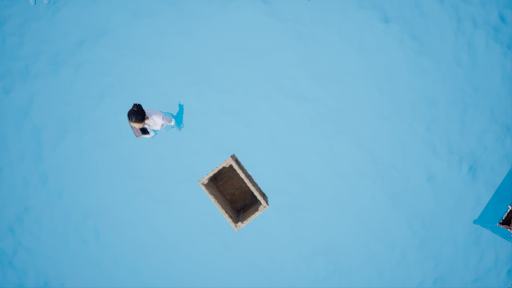person: (125, 103, 190, 144)
